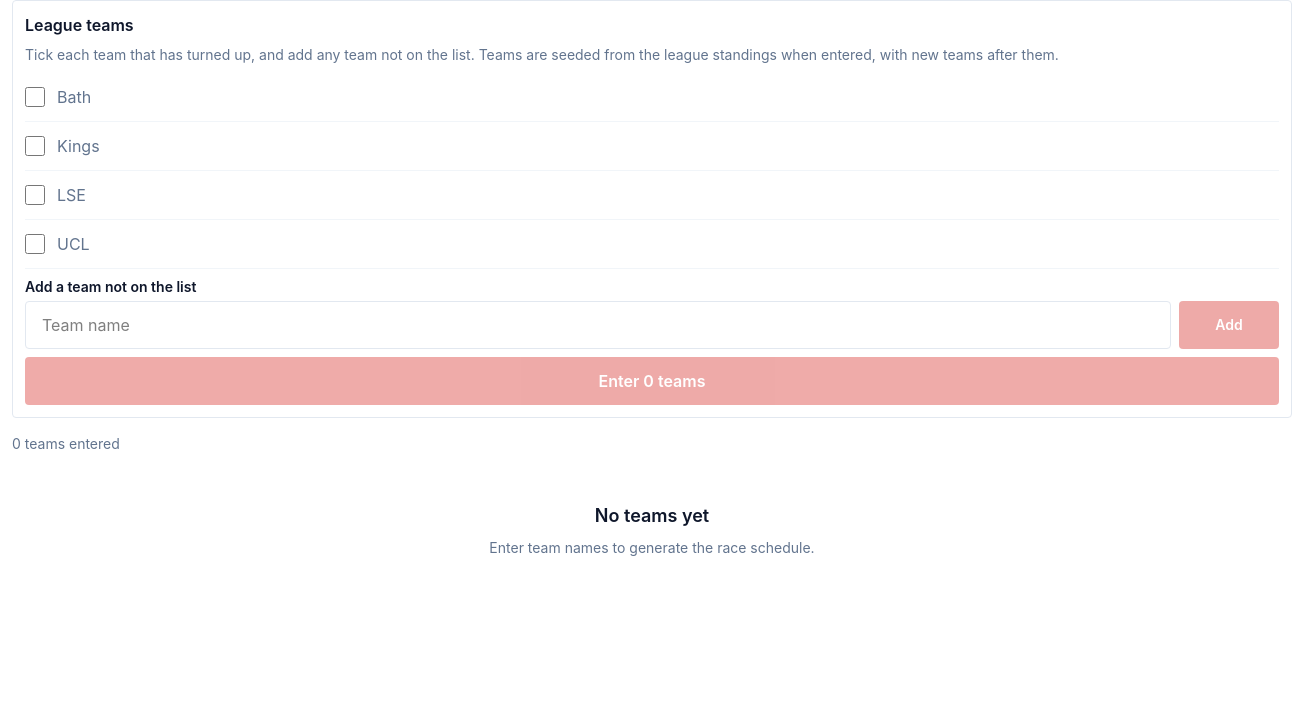
Test: carrying teams over from the league standings › rejects a team already added as new
Type "Exeter" into the field with placeholder "Team name" at (598, 325), box [25,301,1171,349]
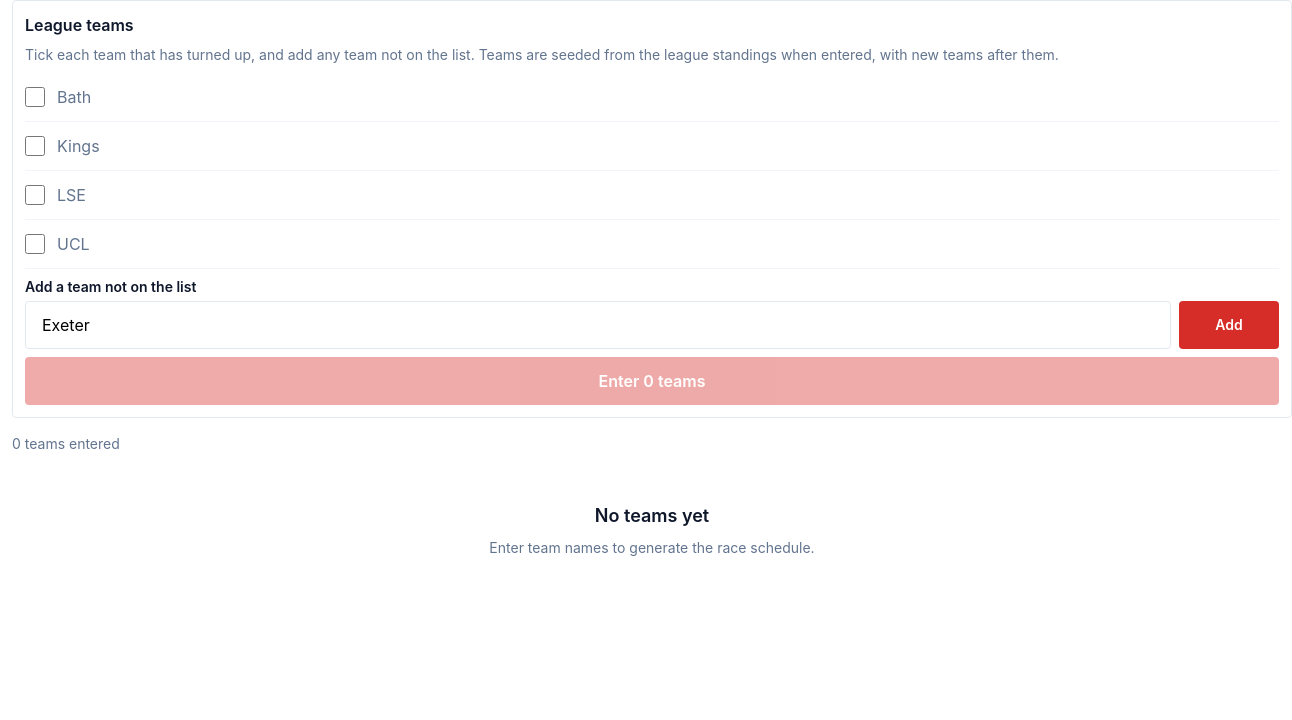
Click the button "Add" at (1229, 325), box [1179,301,1279,349]
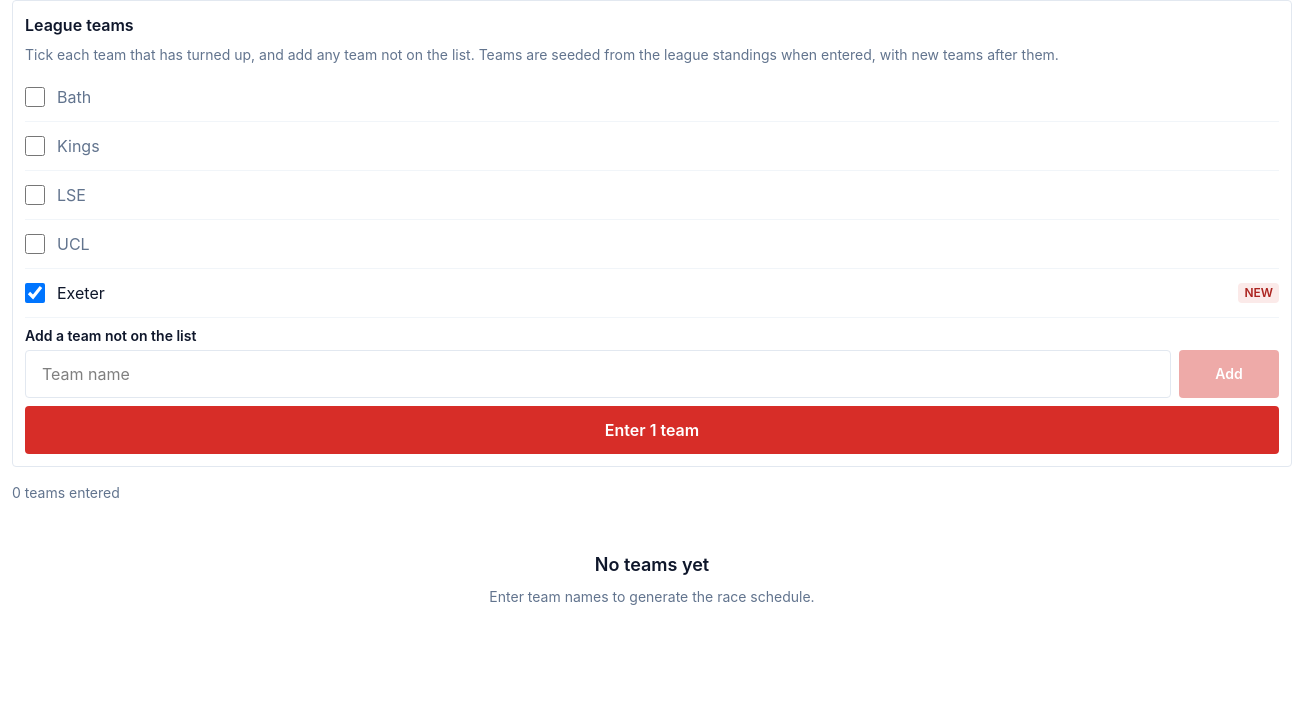
Type "exeter" into the field with placeholder "Team name" at (598, 374), box [25,350,1171,398]
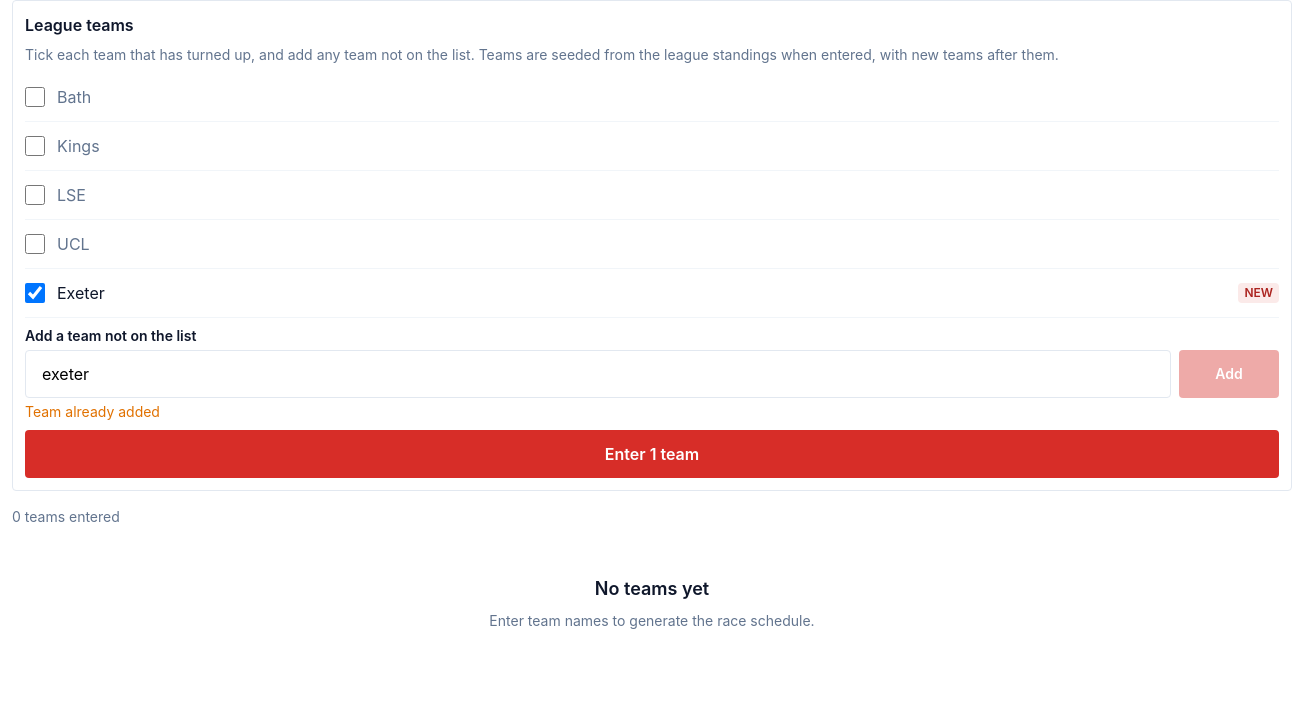
Result: the button "Add" is disabled at [1179,350,1279,398]
Result: the text "Team already added" is shown at [25,403,160,420]
